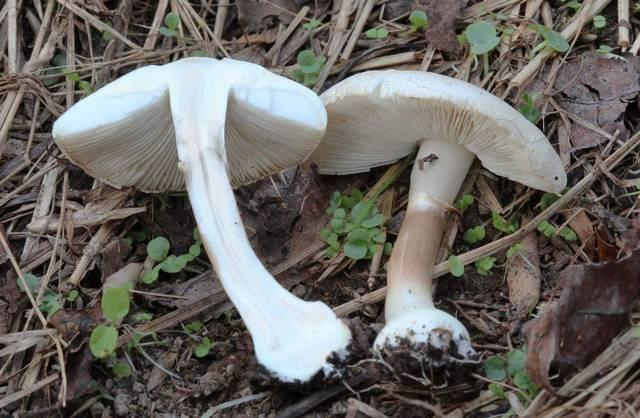poisonous_mushroom: (50, 55, 352, 386), (310, 67, 568, 380)
